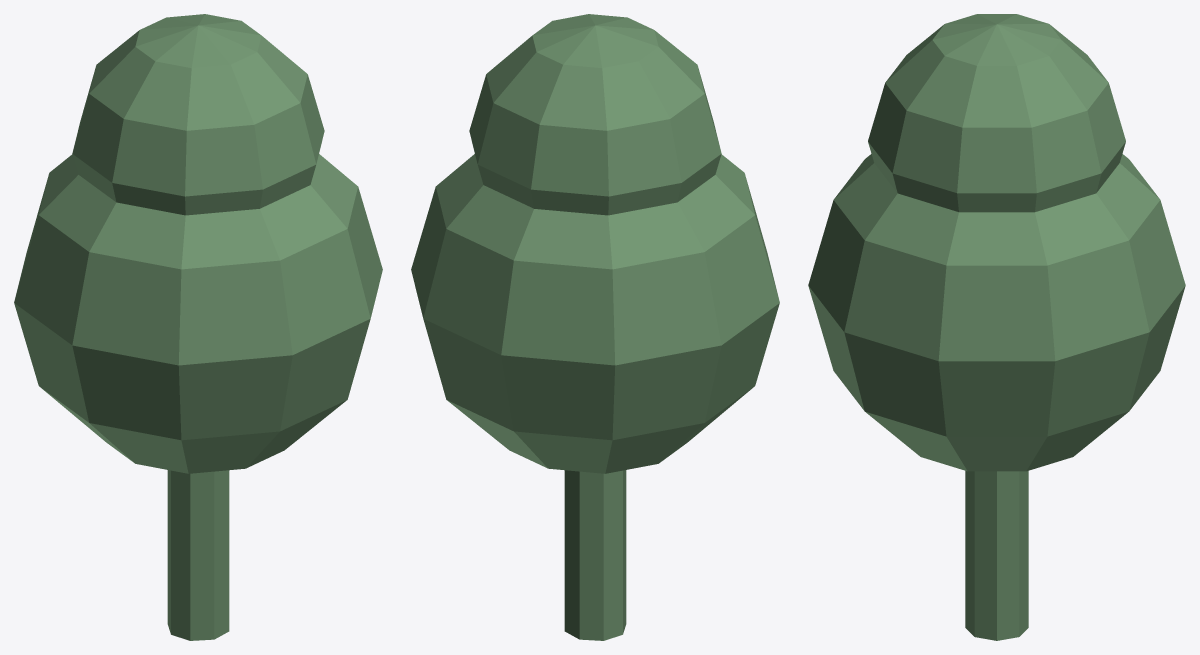
File: tree.glb
3 renders of one model, left to right at view 1: azimuth 30°, elevation 25°; view 2: azimuth 150°, elevation 25°; view 3: azimuth 270°, elevation 25°, orthographic.
Visible parts, largest first — view 1: tree; view 2: tree; view 3: tree.
Part boxes in pixels (x1,y1,x2,y2): tree: [14, 14, 382, 640]; tree: [411, 14, 779, 640]; tree: [808, 14, 1185, 640].
Bounding box in the file's own units: 1.81 × 3.35 × 1.9.
